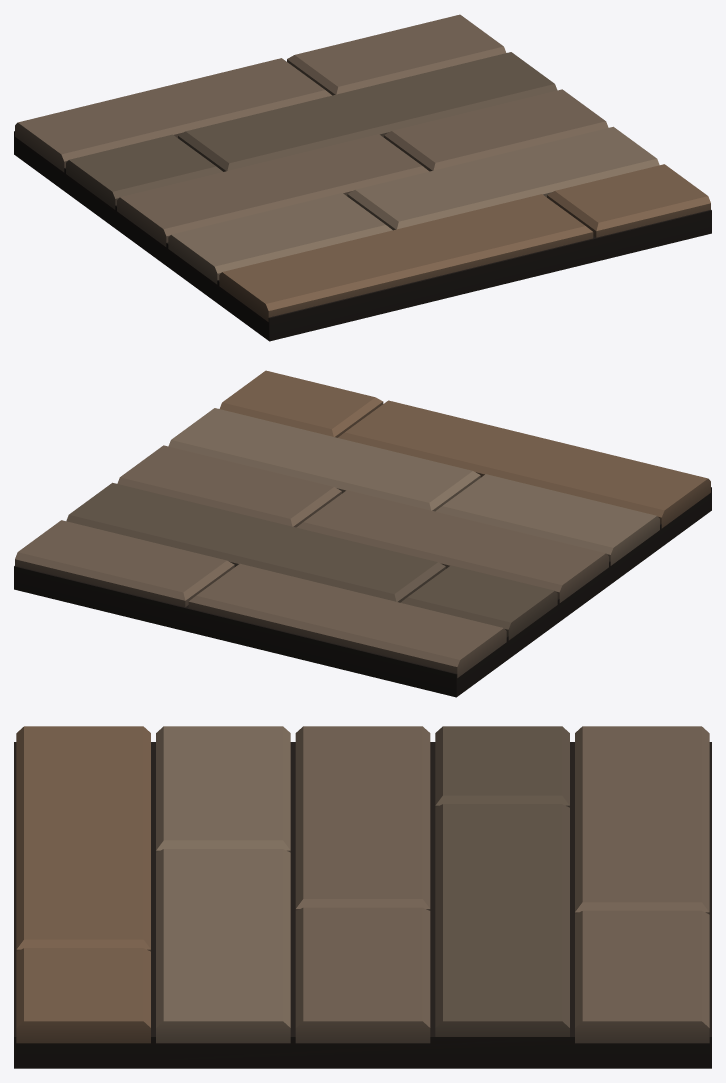
Rendered from floor_planks_rotten_small_A.glb.
3 views of the same model, one above another, from view 1: azimuth 30°, elevation 25°; view 2: azimuth 150°, elevation 25°; view 3: azimuth 270°, elevation 25° (orthographic). The views are drawn at different scales.
Parts seen in each view (by area): view 1: Item; view 2: Item; view 3: Item.
Boxes of the visible parts, box(x1,y1,x2,y2) form: Item: box(14, 14, 711, 341); Item: box(14, 370, 711, 697); Item: box(14, 726, 711, 1068).
Bounding box in the file's own units: 2 × 0.15 × 2.
1 material, 1 textured.
